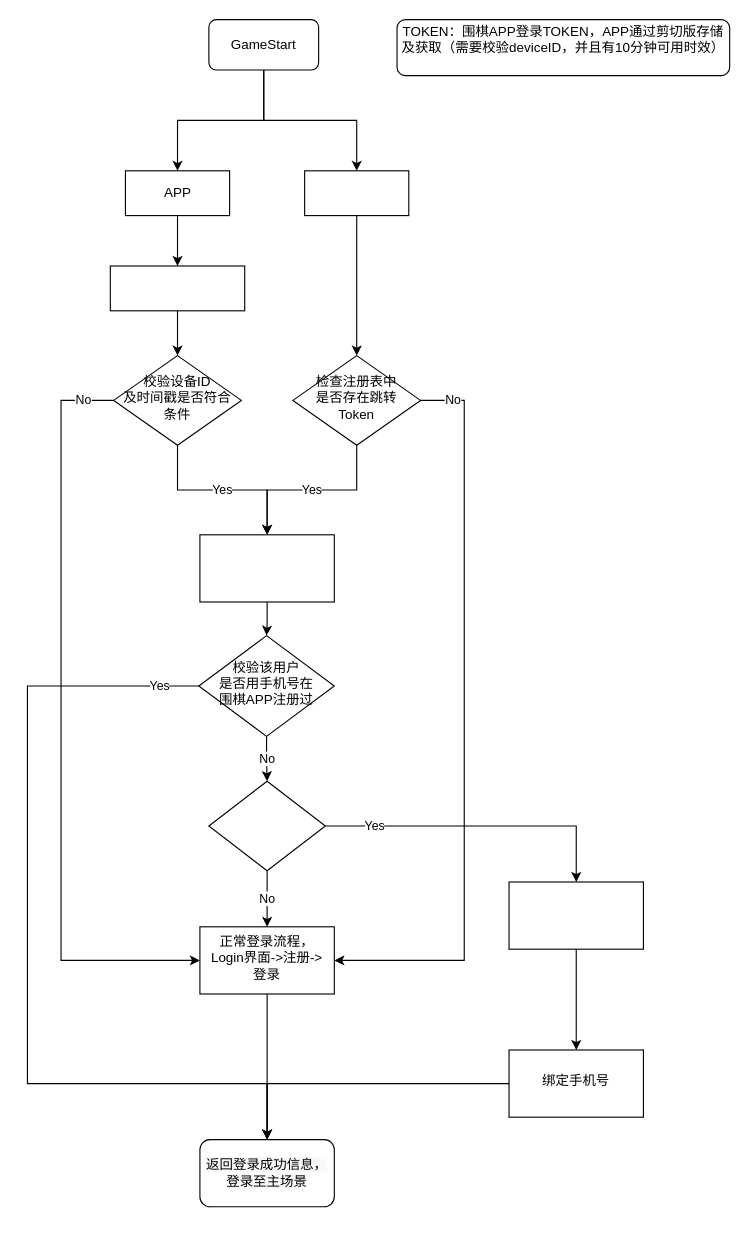
Image size: 749x1241. Some labels were removed from this diagram. Here are the shapes that lost their labels. From the top down, the centre of each, then its label:
At (356,193): "PC".
At (177,288): "查询剪切板信息".
At (266,568): "使用围棋APP的Token申请登录".
At (266,825): "服务器告知TOKEN是否有效".
At (575,915): "跳转至特殊注册界面，告知可以继承昵称及段位".
